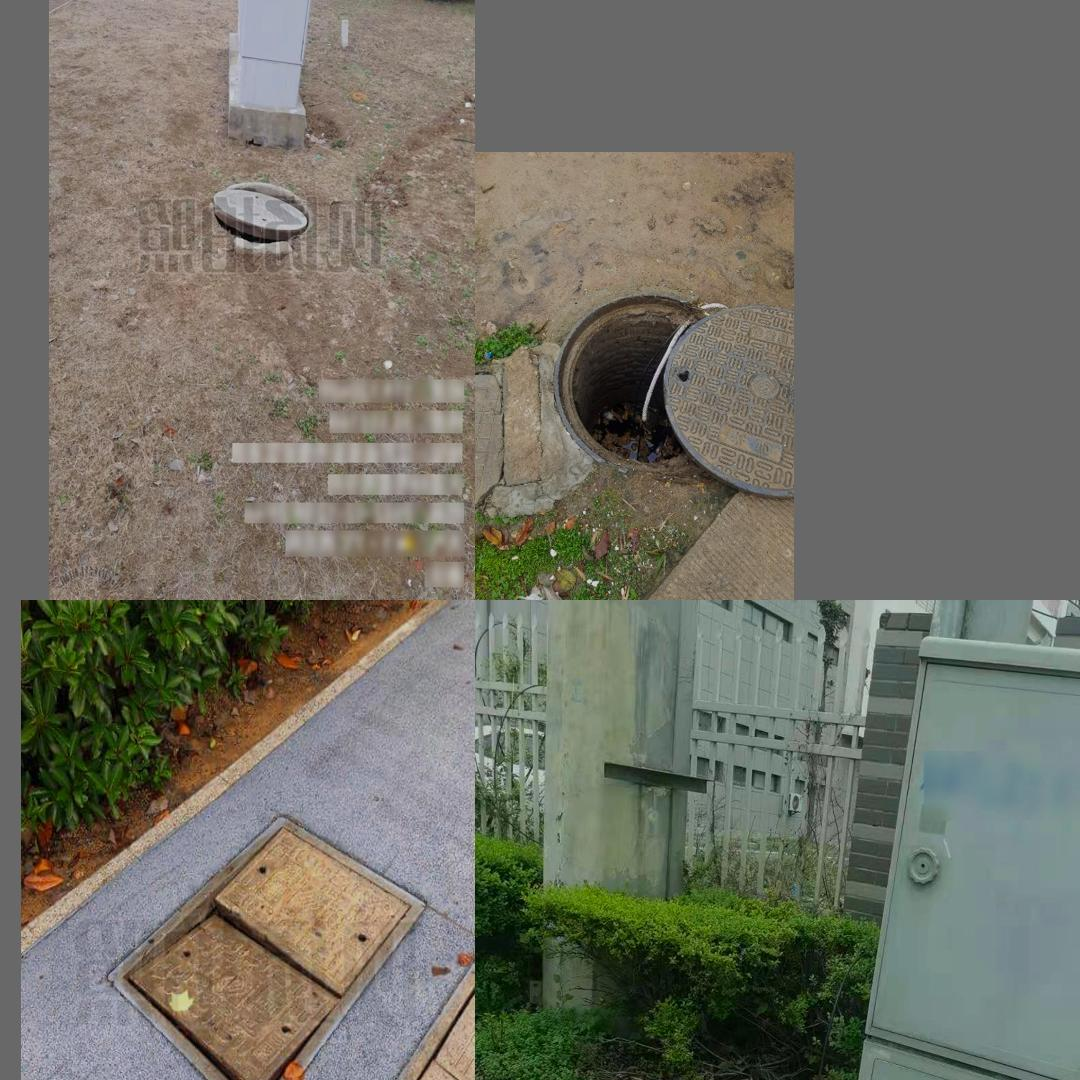uncovered: (107, 815, 426, 1080), (553, 289, 794, 499), (210, 179, 311, 245)
